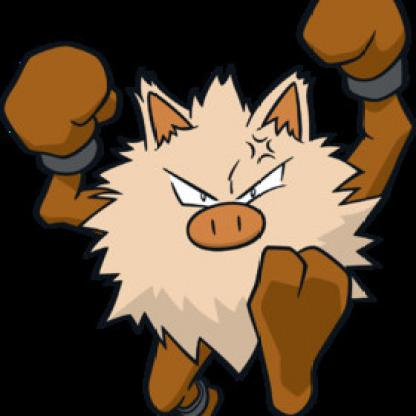Primeape: (10, 7, 415, 415)
